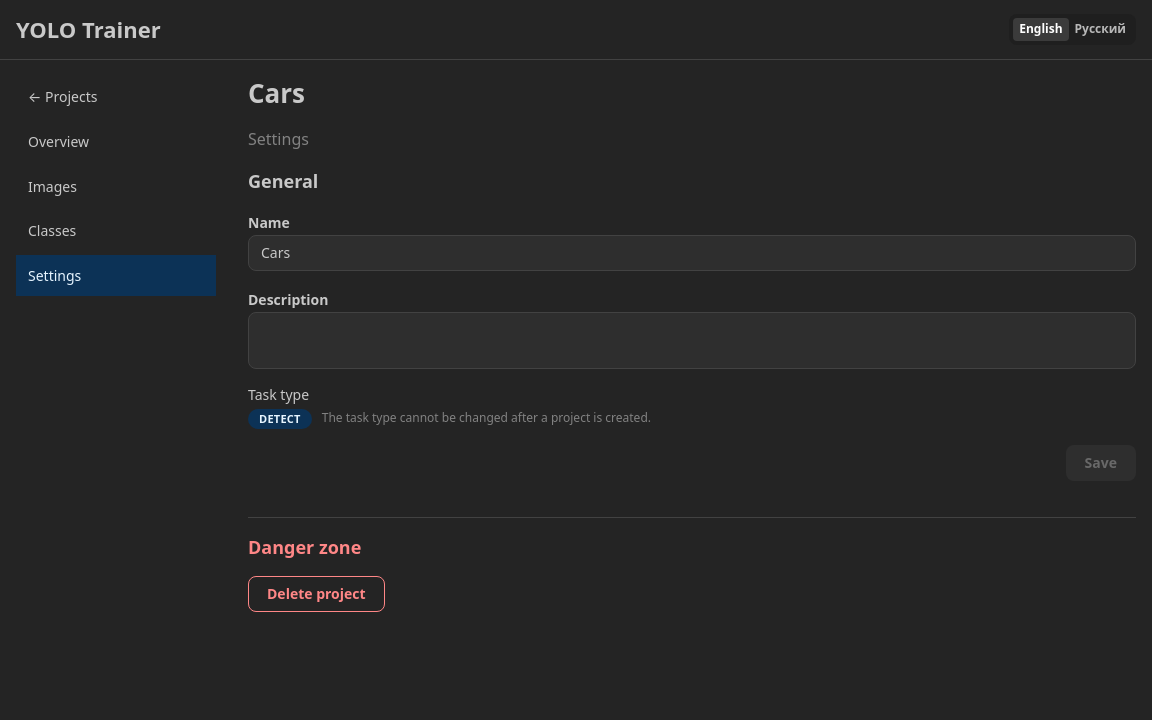
Test: DeleteProjectModal › a 404 from DELETE (already deleted elsewhere) also navigates to /projects
Click the button "Delete project" at (316, 594), box [248,576,385,612]
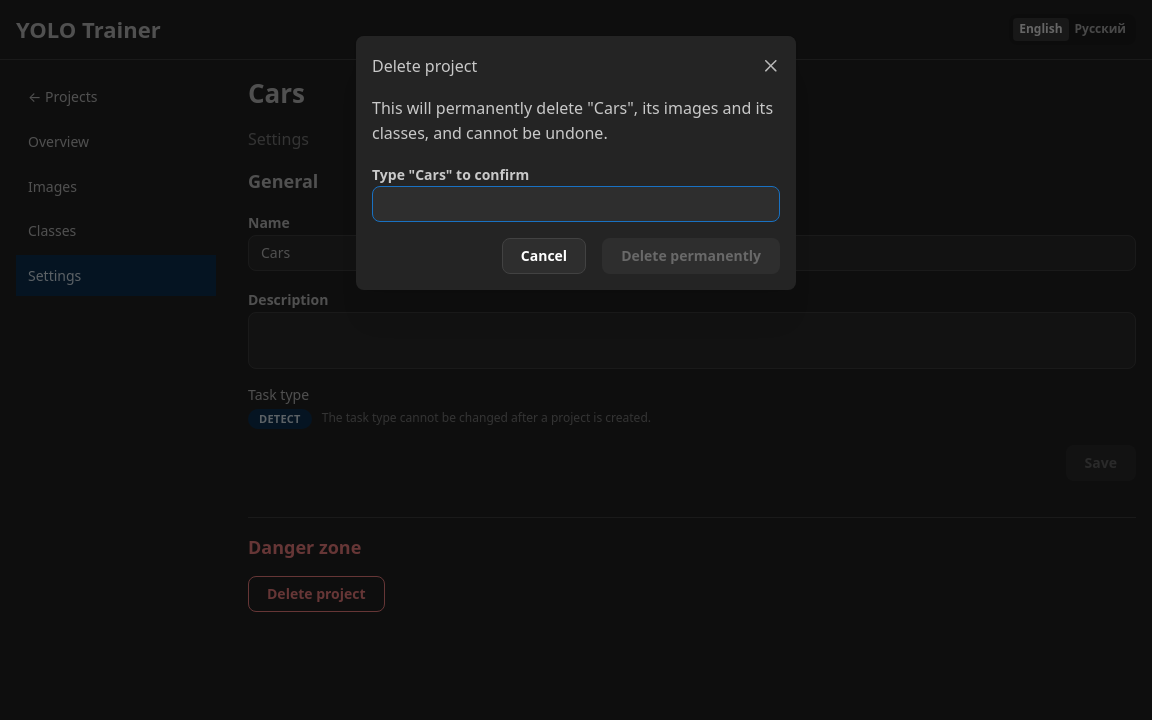
Type "Cars" into the field labelled "Type \"Cars\" to confirm" at (576, 204), box [372,186,780,222]
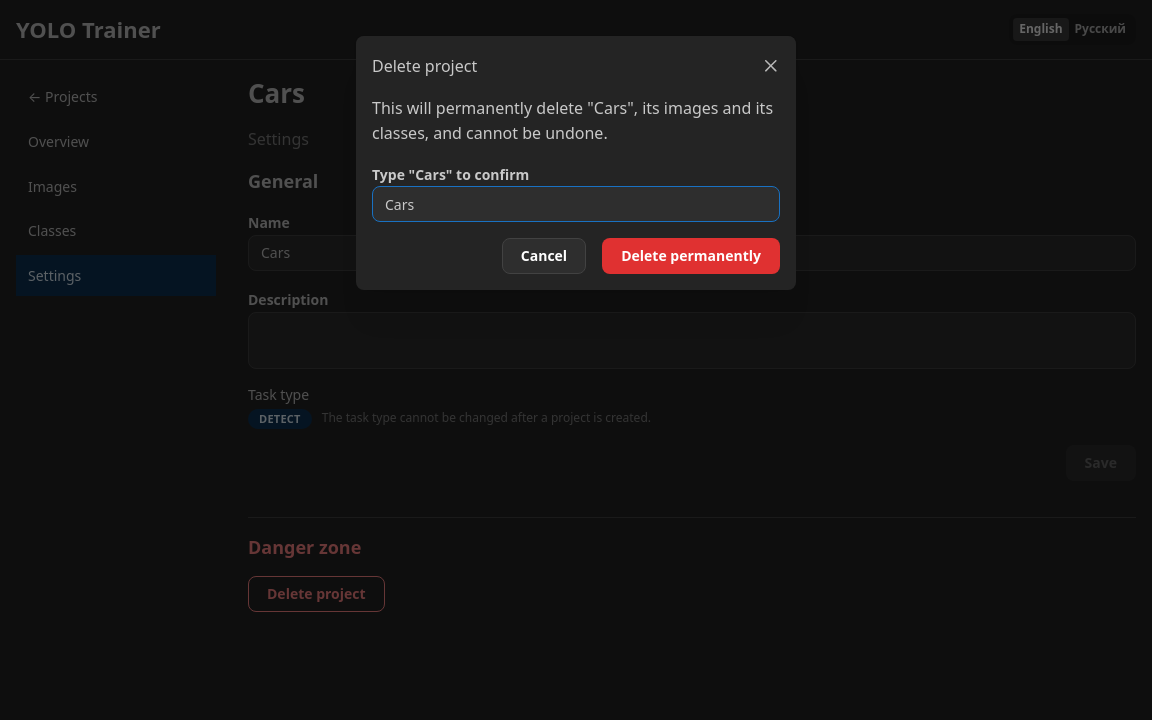
Click the button "Delete permanently" at (691, 256), box [602,238,780,274]
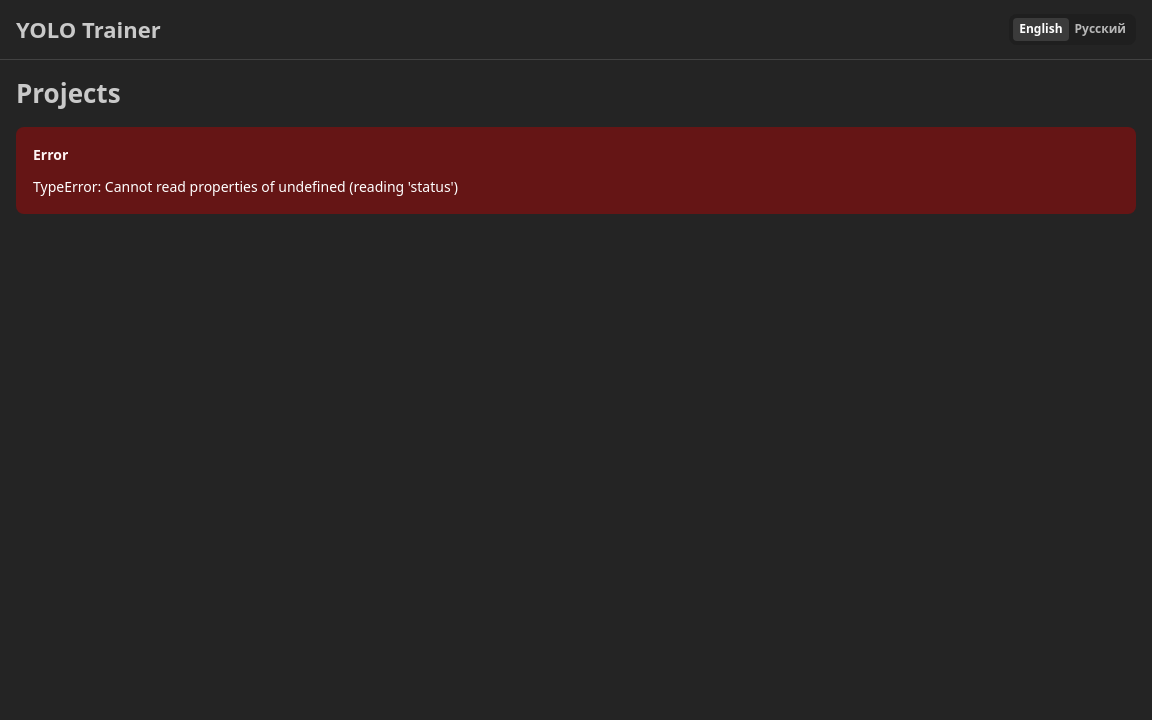
expect the heading "Projects" is shown: met, box [16,75,121,111]
